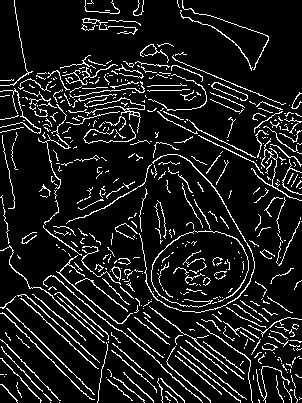cucumber: (132, 150, 257, 315)
